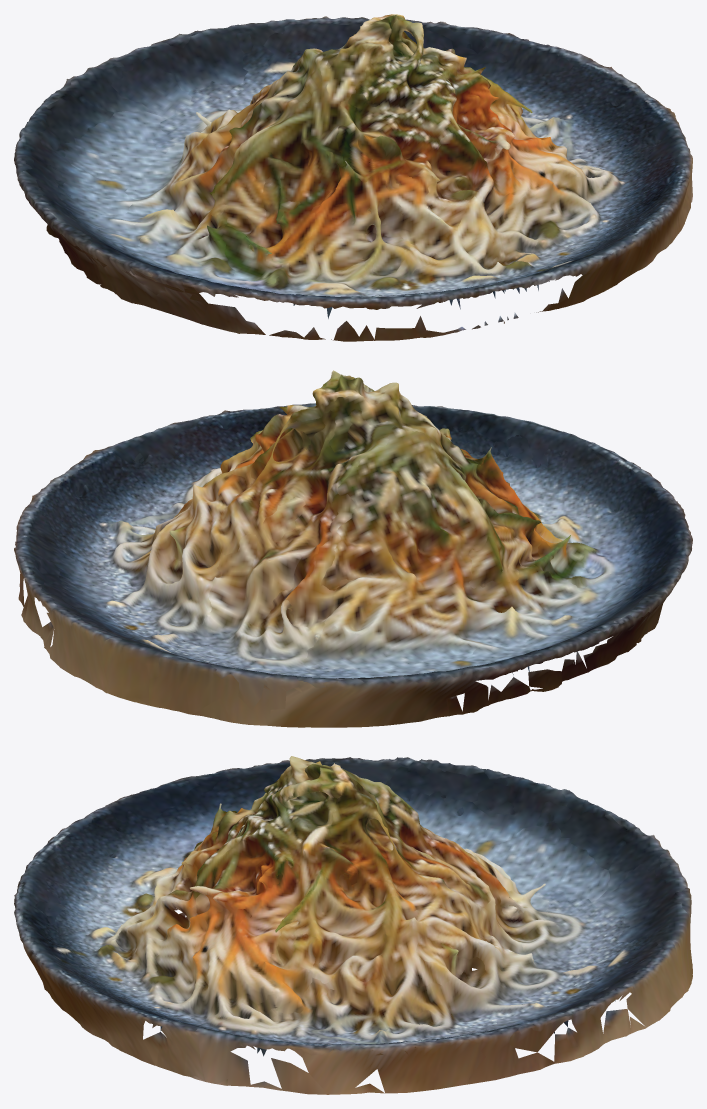
Rendered from cold_noodles_scaniverse.glb.
3 views of the same model, one above another, from view 1: azimuth 30°, elevation 25°; view 2: azimuth 150°, elevation 25°; view 3: azimuth 270°, elevation 25° (orthographic).
Visible parts, largest first — view 1: mesh_main_0 (×2); view 2: mesh_main_0; view 3: mesh_main_0 (×2).
Part boxes in pixels (x1,y1,x2,y2): mesh_main_0 (×2): (14,14,692,341); mesh_main_0: (14,370,692,727); mesh_main_0 (×2): (14,756,692,1094).
Bounding box in the file's own units: 0.2676 × 0.0861 × 0.2678.
Materials: 1 (1 with a texture image).
